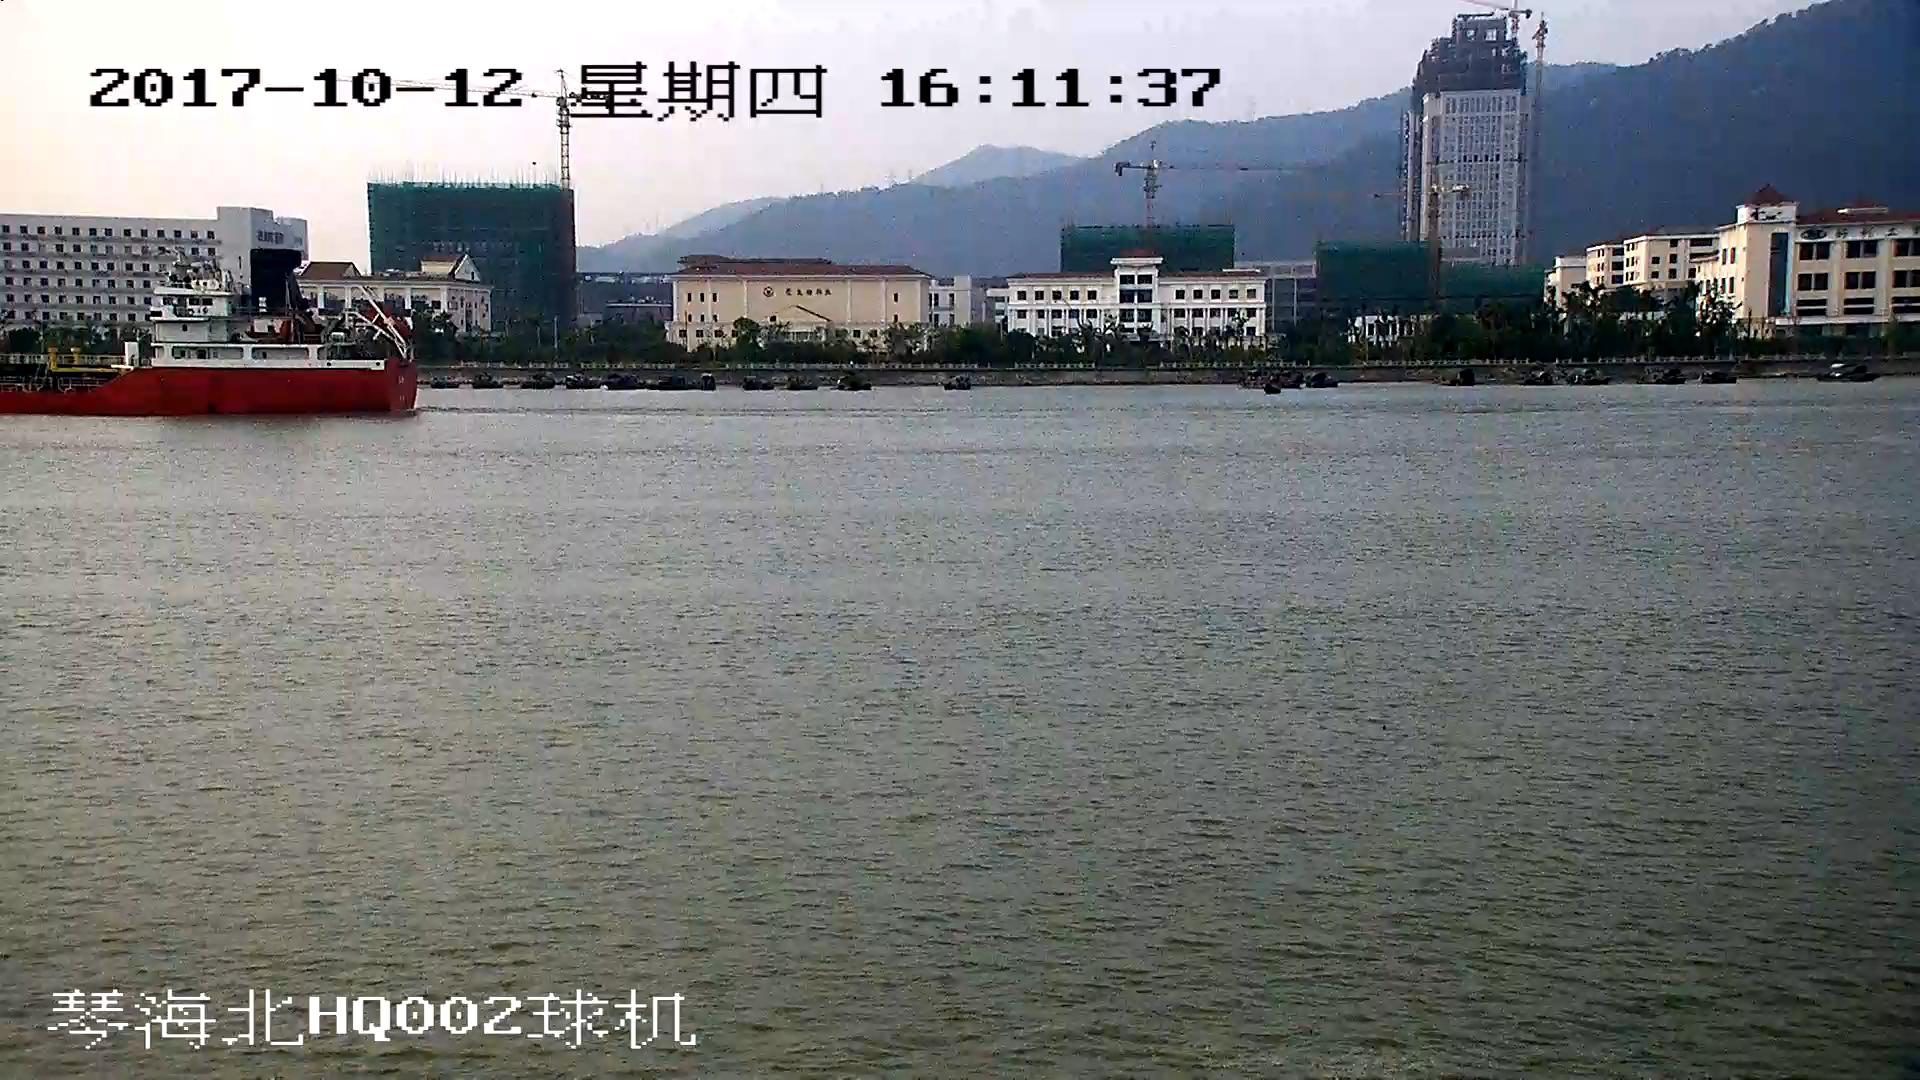general cargo ship: (1, 255, 411, 417)
